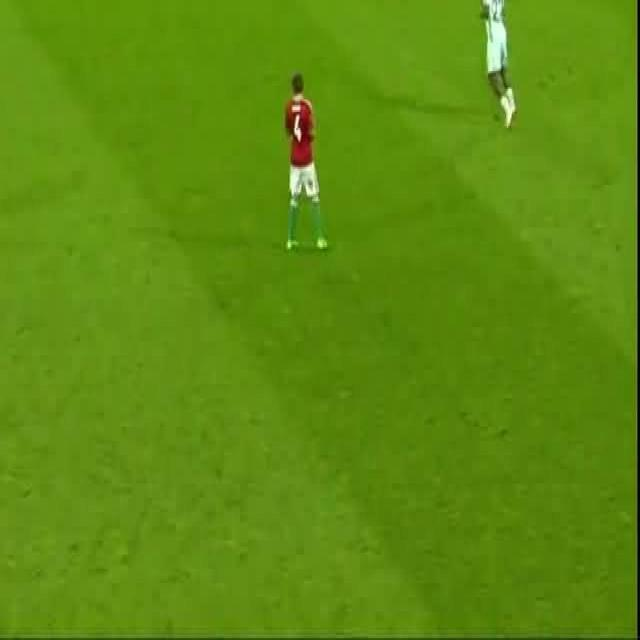player-white: (283, 74, 325, 252), (480, 0, 515, 132)
